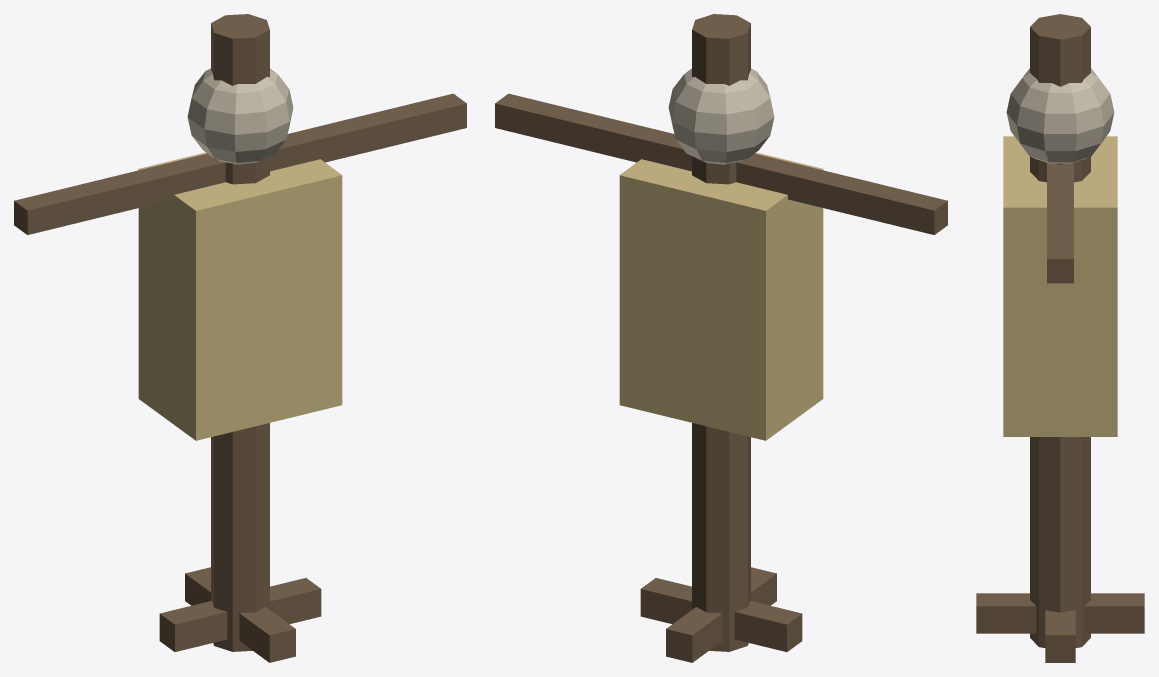
The model's file is training_dummy.glb.
3 views of the same model, side by side, from view 1: azimuth 30°, elevation 25°; view 2: azimuth 150°, elevation 25°; view 3: azimuth 270°, elevation 25° (orthographic).
Parts seen in each view (by area): view 1: training_dummy; view 2: training_dummy; view 3: training_dummy.
Part boxes in pixels (box(x1,y1,x2,y2)): training_dummy: box(14, 14, 466, 662); training_dummy: box(495, 14, 947, 662); training_dummy: box(976, 14, 1144, 662).
Size of the model in its own units: 1.5 by 2 by 0.5.
